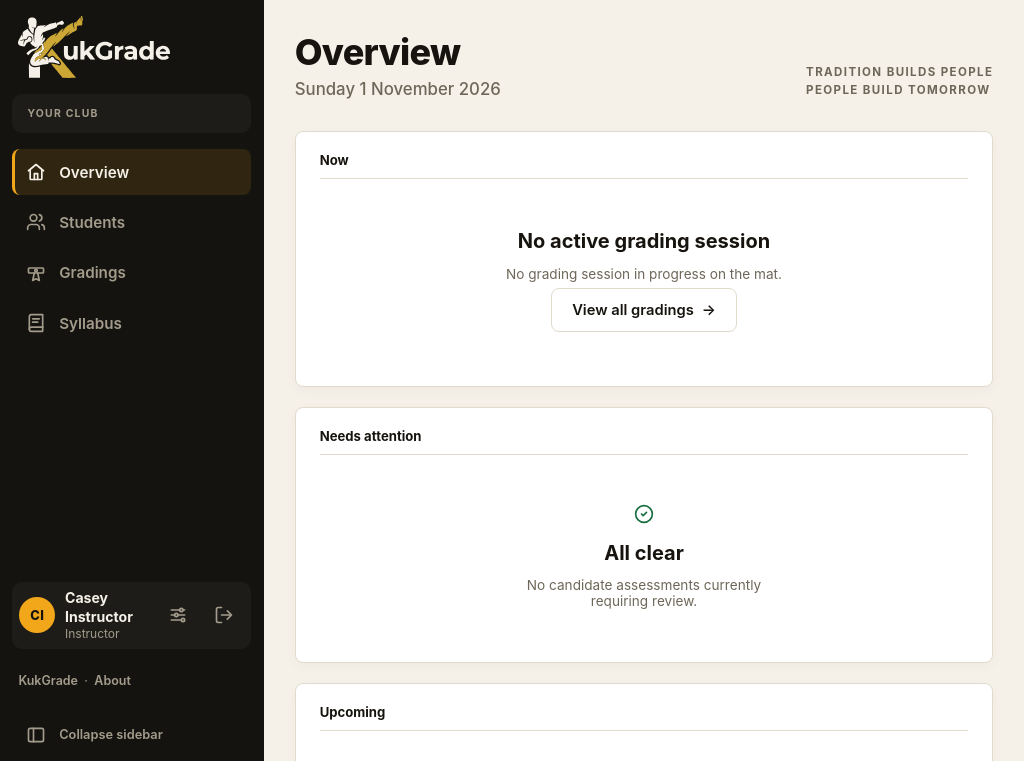
Connection failures are not sign-outs › keeps the viewer signed in when sign-out fails
Expected: the text "Casey Instructor" is shown, x1=65 y1=589 x2=133 y2=624
What coordinates should you click on to do the following:
click the button named "Sign out"
I would click on:
 (224, 615)
Its box is x1=202 y1=593 x2=246 y2=637.
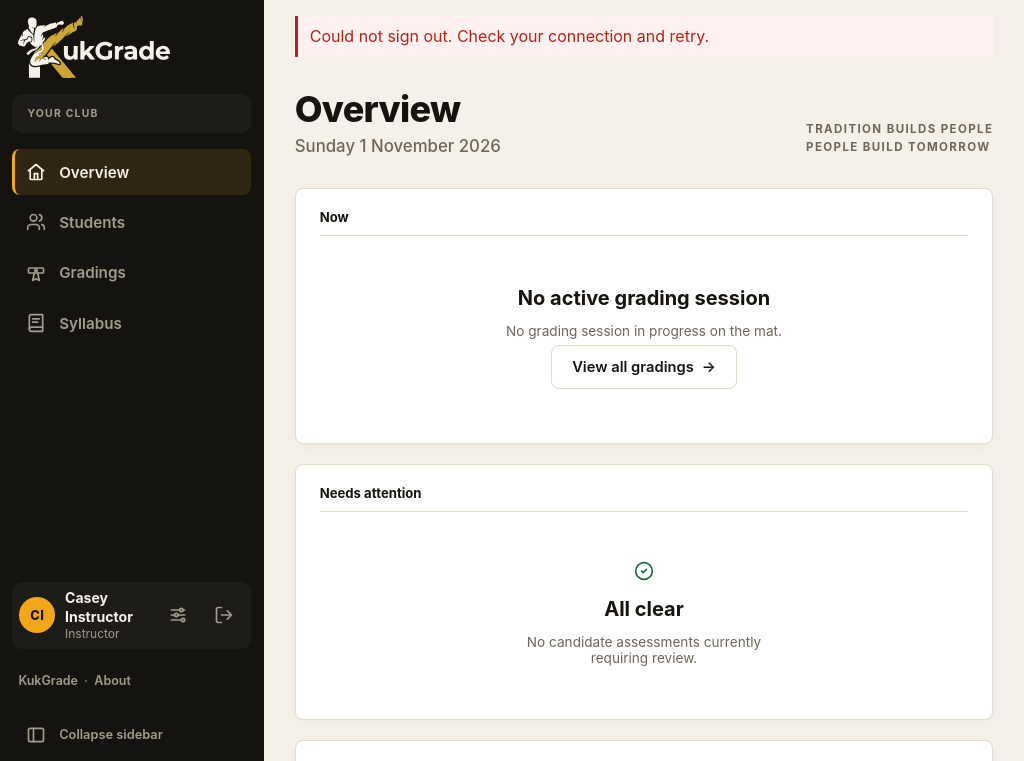
Expected: the text "Casey Instructor" is shown, x1=65 y1=589 x2=133 y2=624
Expected: the message shows "Could not sign out", x1=310 y1=26 x2=709 y2=46
